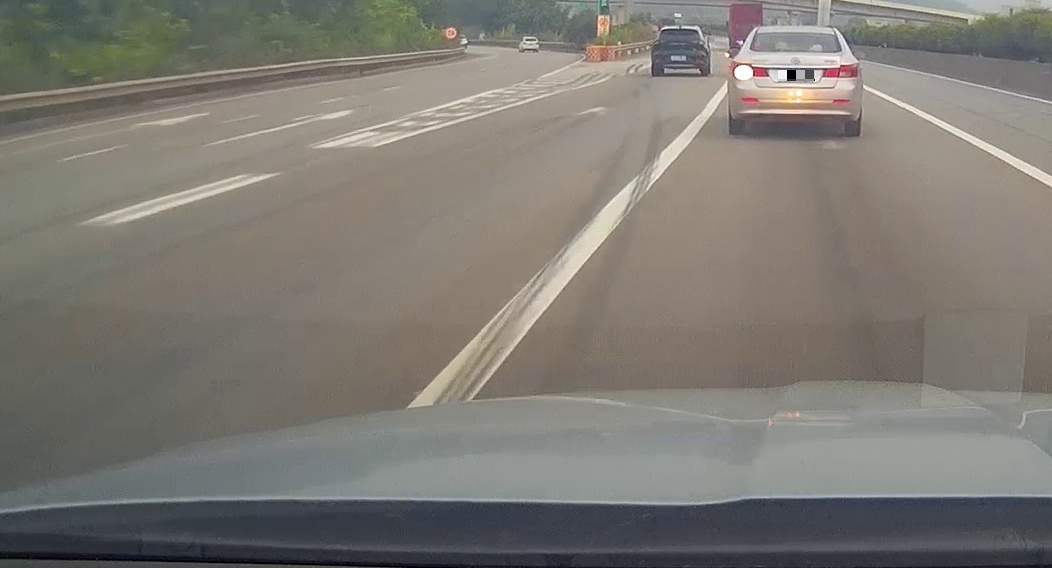L_light: (732, 62, 769, 79), (653, 40, 665, 45)
R_light: (822, 63, 858, 77), (692, 39, 705, 45)
T_light: (784, 45, 803, 51), (675, 29, 684, 32)
day-left: (728, 25, 863, 137)
day-no: (651, 26, 710, 76)
plate_1: (778, 70, 815, 81)
